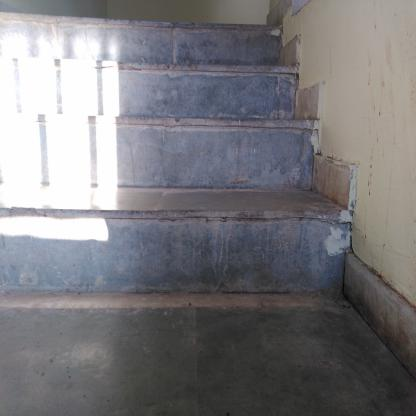stairs: (1, 13, 283, 316)
